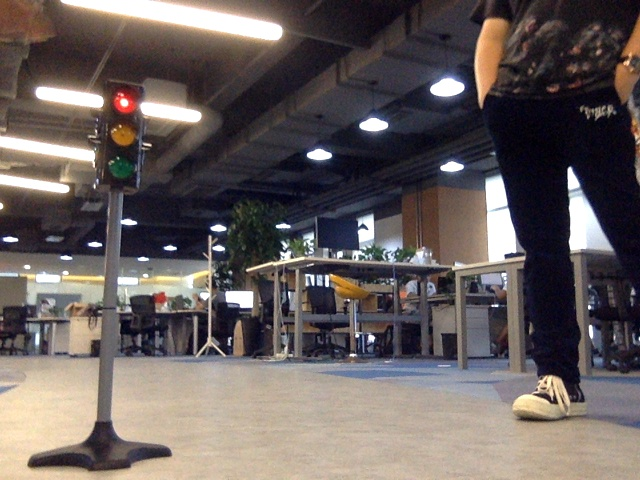red: (104, 87, 139, 178)
